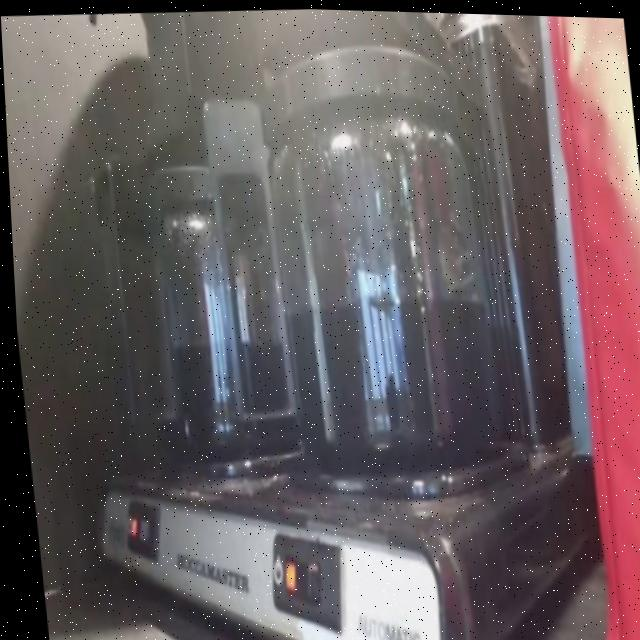coffee: (267, 156, 492, 463), (136, 238, 267, 458)
